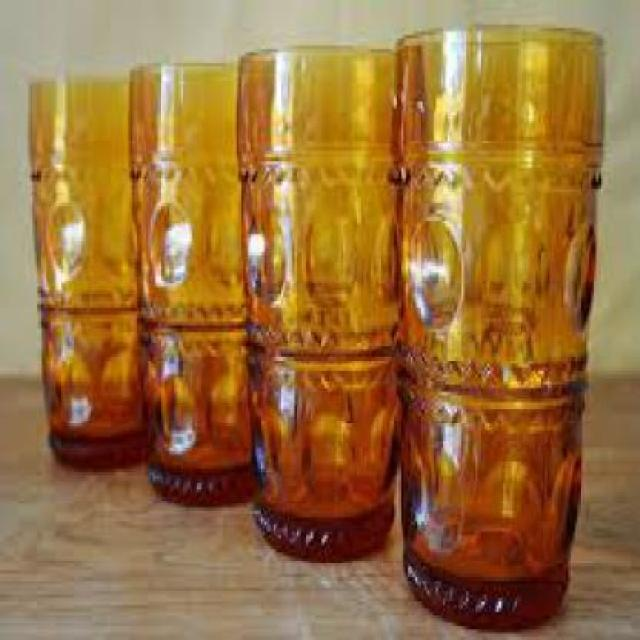kaca: (388, 25, 604, 623), (236, 42, 410, 560), (124, 63, 256, 508), (26, 70, 145, 472)
